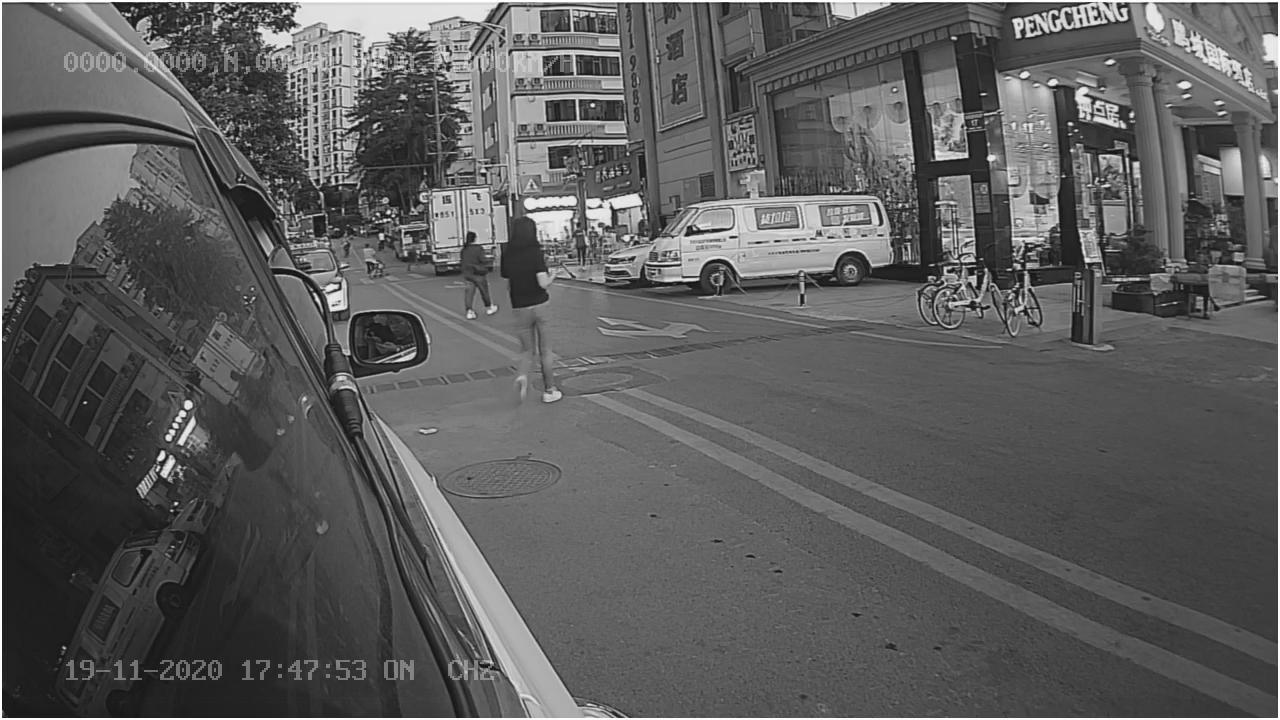person: (493, 214, 567, 405)
